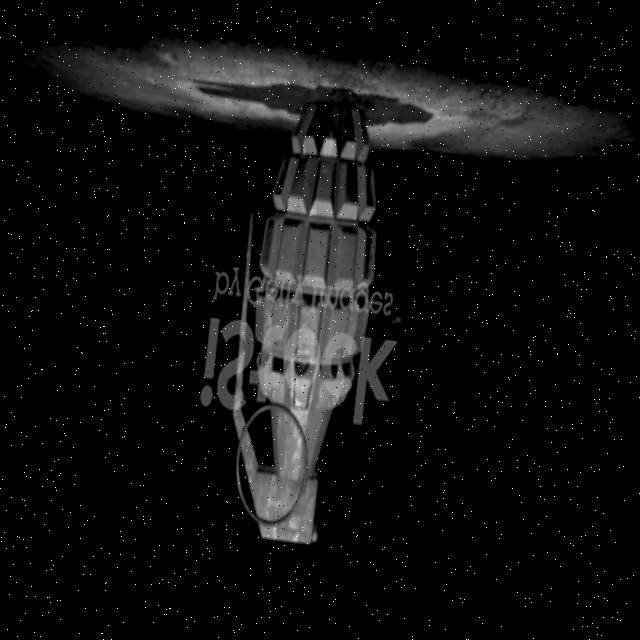grenade: (211, 88, 400, 550)
